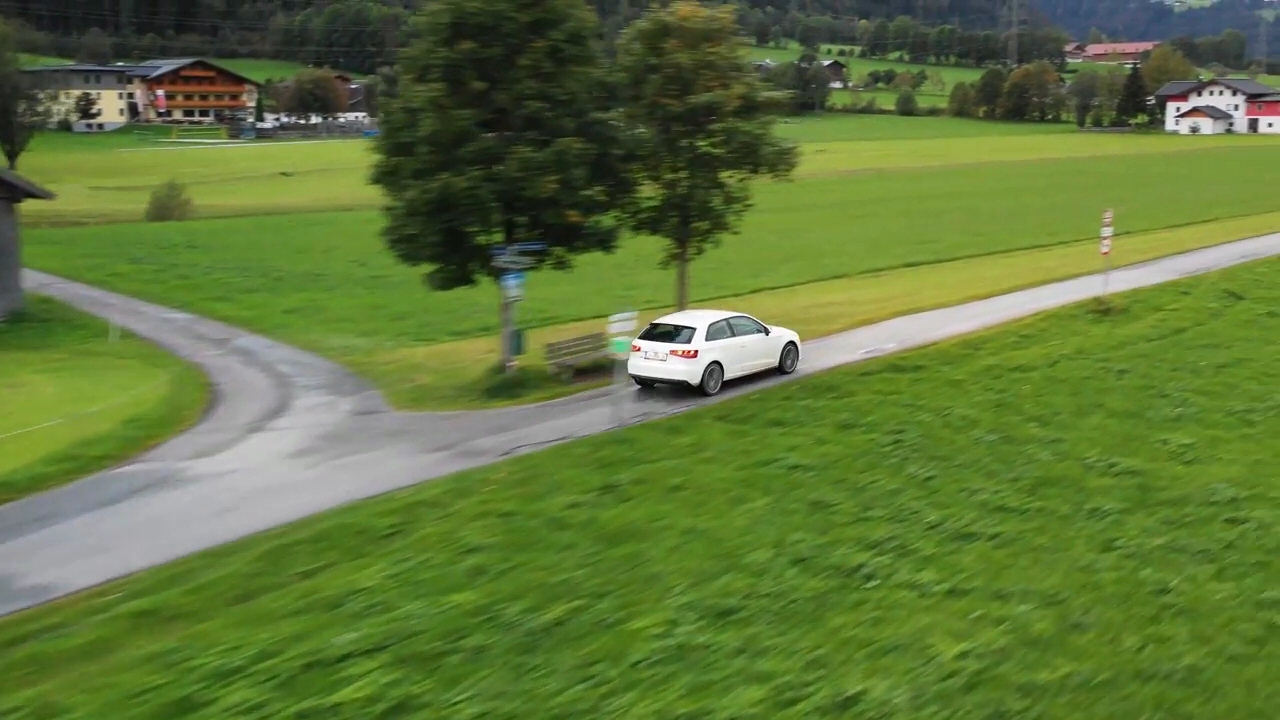araba: (629, 308, 803, 398)
